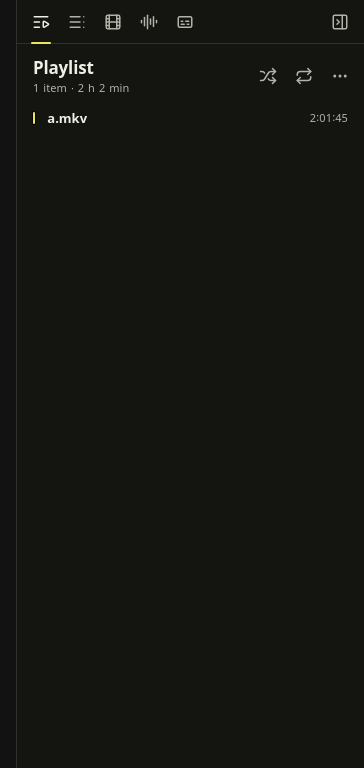
Scenario: the panel beside the picture › switches tab, remembers which, and takes the other out of the layout
Click the tab named "Chapters".
click(77, 22)  # box x1=61 y1=6 x2=93 y2=38
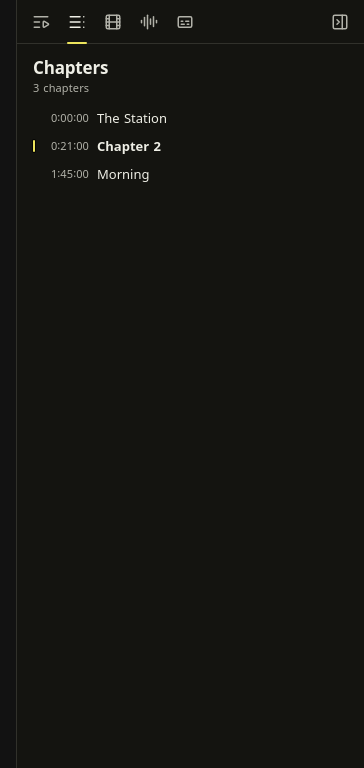
Expected: the list named "Chapters" is shown, x1=24 y1=109 x2=230 y2=192
Expected: the text "Playlist" is gone
